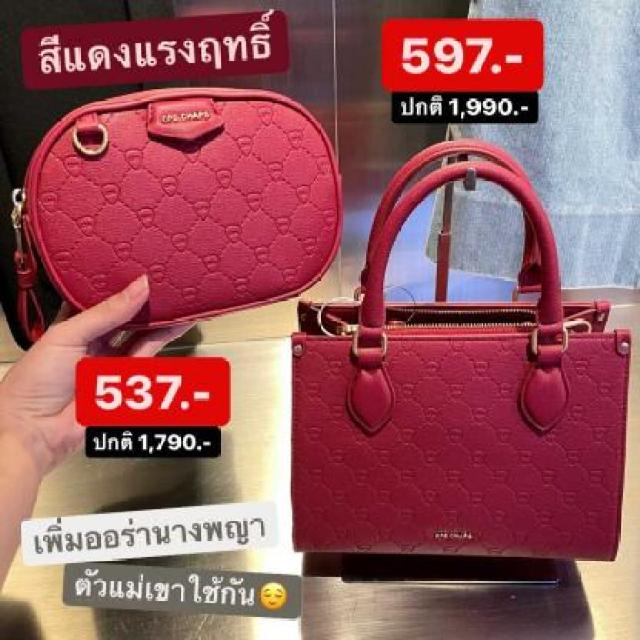Bag: (280, 128, 632, 617), (0, 71, 363, 332)
